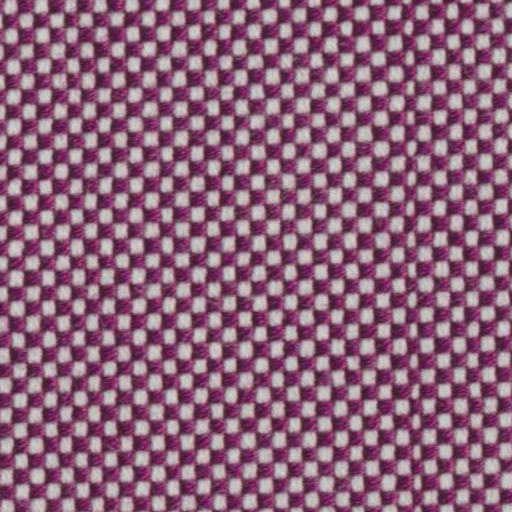TuoSha: (377, 7, 452, 506)
